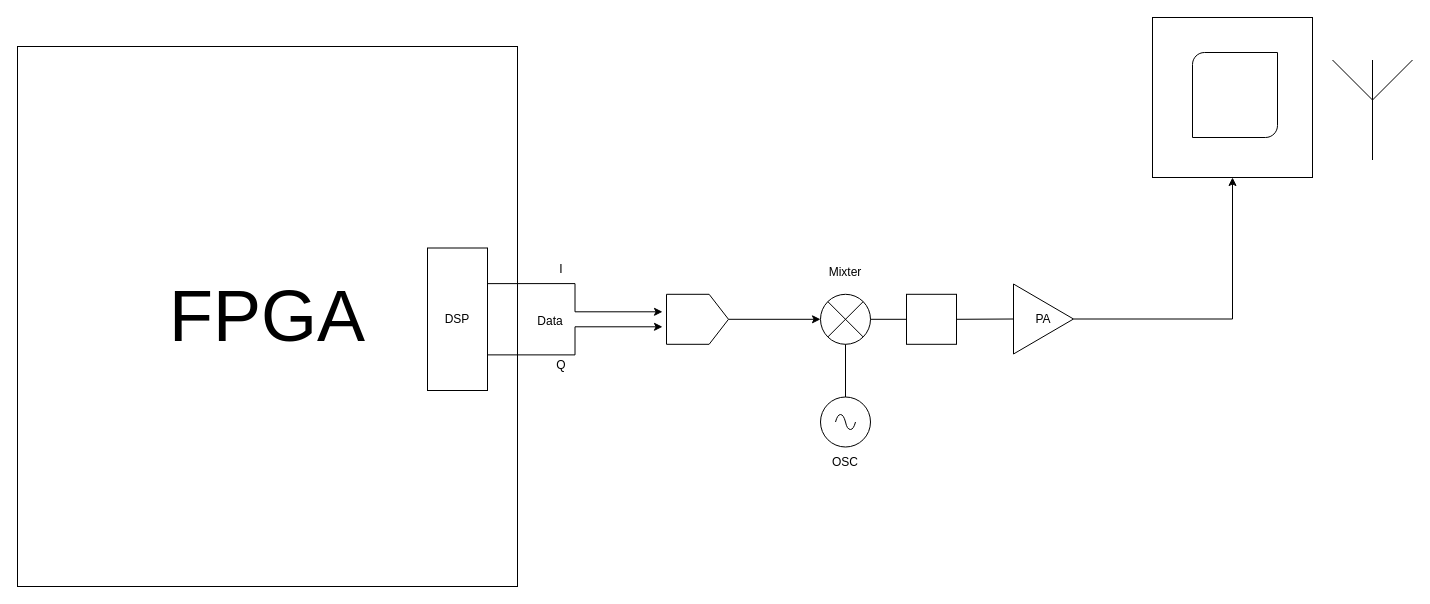
Image size: 1430x604. Some labels were removed from this diagram. Here are the shapes that lost their labels. From the top down, the centre of each, then its label:
the point at 697,318: ADC
the point at 931,318: Filter
